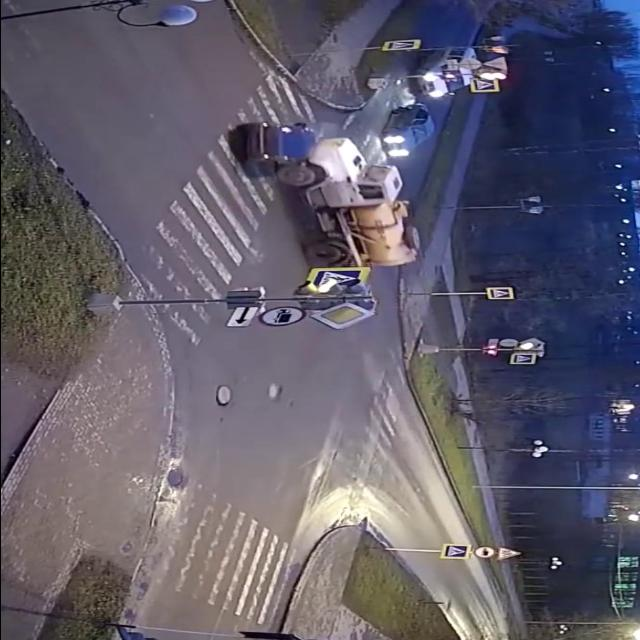accident: (230, 116, 438, 280)
